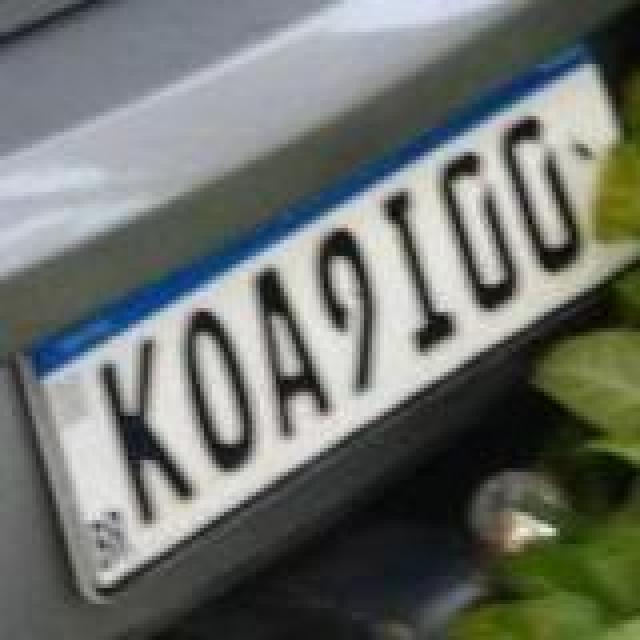9: (312, 226, 376, 398)
A: (258, 262, 334, 442)
D: (438, 150, 522, 314), (502, 110, 586, 274)
I: (378, 188, 454, 356)
K: (96, 336, 192, 528)
O: (182, 308, 258, 476)
